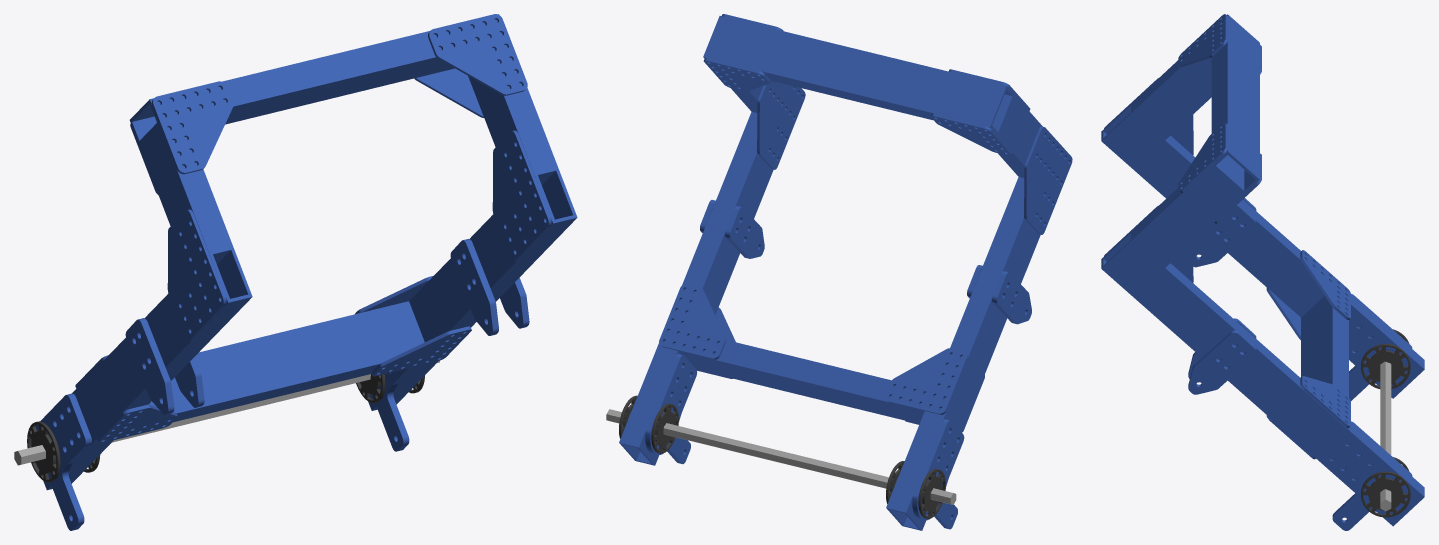
3 views of the same model, side by side, from view 1: azimuth 30°, elevation 25°; view 2: azimuth 150°, elevation 25°; view 3: azimuth 270°, elevation 25° (orthographic). The views are drawn at different scales.
Parts seen in each view (by area): view 1: Part 1 (×5), Part 2 (×8), Climber Beam X1 (×2), Part 3, Part 4 (×4), 24in axle, 1/2" Hex Bore Aluminum Versahub (217-2592); view 2: Climber Beam X1 (×2), Part 1 (×5), Part 3, Part 2 (×5), 24in axle, Part 4 (×2), 1/2" Hex Bore Aluminum Versahub (217-2592) (×2); view 3: Climber Beam X1 (×2), Part 2 (×7), Part 3, Part 1 (×5), Part 4 (×2), 1/2" Hex Bore Aluminum Versahub (217-2592) (×2), 24in axle.
Part boxes in pixels (bbox=[...]): Part 1 (×5): bbox=[31, 130, 551, 530]; Part 2 (×8): bbox=[96, 14, 557, 443]; Climber Beam X1 (×2): bbox=[43, 166, 577, 490]; Part 3: bbox=[129, 14, 502, 144]; Part 4 (×4): bbox=[125, 239, 529, 414]; 24in axle: bbox=[14, 360, 439, 465]; 1/2" Hex Bore Aluminum Versahub (217-2592): bbox=[27, 421, 60, 482]; Climber Beam X1 (×2): bbox=[619, 111, 1040, 530]; Part 1 (×5): bbox=[645, 81, 1072, 529]; Part 3: bbox=[703, 16, 1014, 135]; Part 2 (×5): bbox=[659, 58, 1042, 414]; 24in axle: bbox=[606, 409, 956, 504]; Part 4 (×2): bbox=[725, 206, 1031, 324]; 1/2" Hex Bore Aluminum Versahub (217-2592) (×2): bbox=[651, 403, 945, 518]; Climber Beam X1 (×2): bbox=[1101, 102, 1424, 526]; Part 2 (×7): bbox=[1133, 14, 1350, 428]; Part 3: bbox=[1211, 14, 1259, 194]; Part 1 (×5): bbox=[1104, 78, 1412, 530]; Part 4 (×2): bbox=[1188, 204, 1256, 394]; 1/2" Hex Bore Aluminum Versahub (217-2592) (×2): bbox=[1361, 344, 1410, 517]; 24in axle: bbox=[1380, 361, 1391, 511].
Bounding box in the file's own units: 0.4364 × 0.4841 × 0.3629.
